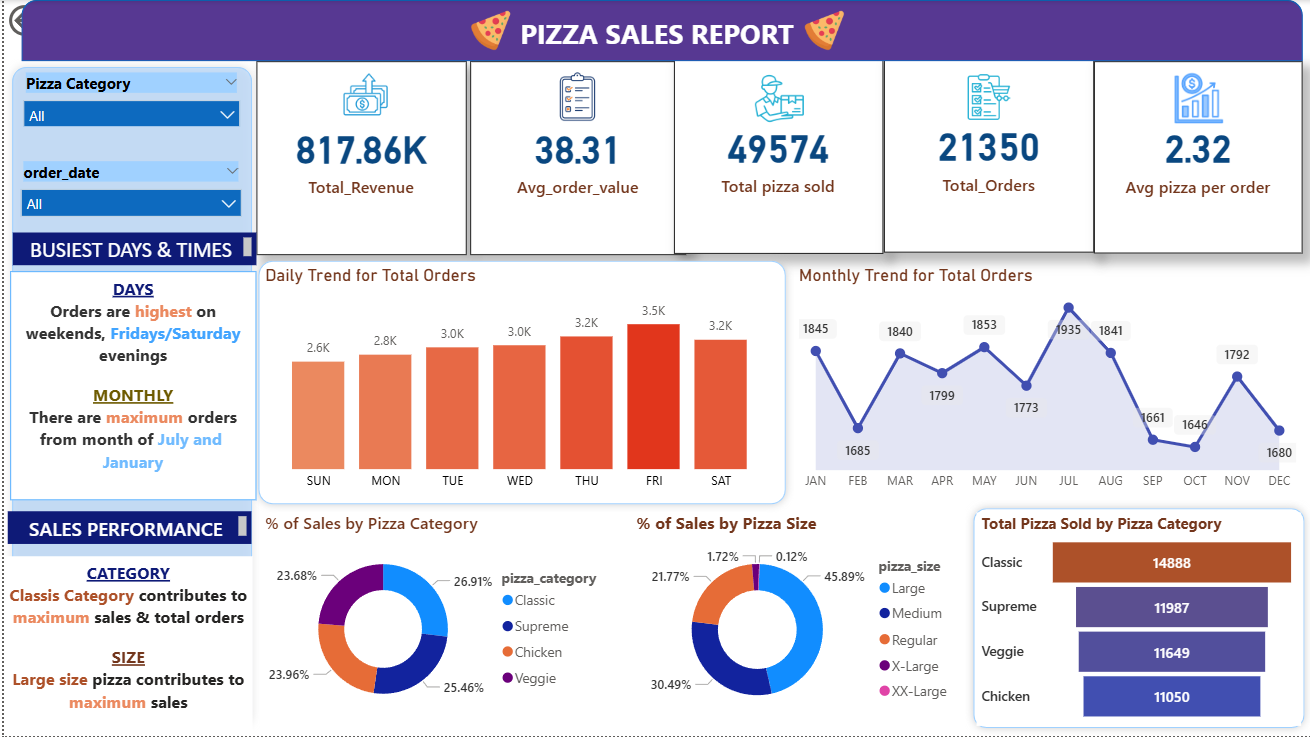

This screenshot's page, from the dashboard's own definition file:
{"tool":"powerbi","page":{"name":"Page 1","canvas":[1280,720],"ordinal":0},"visuals":[{"type":"actionButton","box":[0,0,100,40],"z":0},{"type":"card","fields":{"Values":["pizza_sales.Total_Revenue"]},"box":[247,59.9,205.4,189.5],"z":1000},{"type":"card","fields":{"Values":["pizza_sales.Avg_order_value"]},"box":[455.6,60.4,211.3,189.4],"z":2000},{"type":"card","fields":{"Values":["pizza_sales.Total pizza sold"]},"box":[655.9,59,204.5,189.4],"z":3000},{"type":"shape","box":[0,57.5,250.7,662.8],"z":4000},{"type":"card","fields":{"Values":["pizza_sales.Total_Orders"]},"box":[860.4,57.6,205.8,189.4],"z":5000},{"type":"card","fields":{"Values":["pizza_sales.Avg pizza per order"]},"box":[1066.3,59.9,204.2,188.3],"z":6000},{"type":"shape","box":[17.1,0,1253.4,59.9],"z":7000},{"type":"textbox","box":[8.6,227.4,238.5,31.8],"z":8000},{"type":"textbox","box":[496.5,9.8,284.9,50.1],"z":9000},{"type":"image","box":[455.6,9.6,39.8,39.8],"z":10000},{"type":"image","box":[734.1,60.4,49.4,72.7],"z":11000},{"type":"image","box":[940,71.4,46.7,48],"z":12000},{"type":"image","box":[329.3,59,49.4,67.2],"z":13000},{"type":"image","box":[521.4,70,79.6,49.4],"z":14000},{"type":"image","box":[1140.3,71.4,56.3,50.8],"z":15000},{"type":"shape","box":[240.9,247,531.9,254.3],"z":16000},{"type":"columnChart","title":"Daily Trend for Total Orders","fields":{"Category":["pizza_sales.Order Day"],"Y":["pizza_sales.Total_Orders"]},"box":[250.7,259.2,508.7,229.9],"z":17000},{"type":"areaChart","title":"Monthly Trend for Total Orders","fields":{"Y":["pizza_sales.Total_Orders"],"Category":["pizza_sales.Order Month"]},"box":[772.8,259.2,496.5,229.9],"z":18000},{"type":"shape","box":[940.4,489.1,339.9,231.1],"z":19000},{"type":"donutChart","title":"% of Sales by Pizza Category","fields":{"Category":["pizza_sales.pizza_category"],"Y":["pizza_sales.Total_Revenue"]},"box":[250.7,500.1,349.7,209.1],"z":20000},{"type":"donutChart","title":"% of Sales by Pizza Size","fields":{"Category":["pizza_sales.pizza_size"],"Y":["pizza_sales.Total_Revenue"]},"box":[613.9,500.1,326.5,210.3],"z":21000},{"type":"funnel","title":"Total Pizza Sold by Pizza Category","fields":{"Category":["pizza_sales.pizza_category"],"Y":["pizza_sales.Total pizza sold"]},"box":[951.4,501.4,317.9,209.1],"z":22000},{"type":"textbox","box":[6.1,265.4,240.9,223.8],"z":23000},{"type":"textbox","box":[0,544.2,243.3,176.1],"z":24000},{"type":"textbox","box":[3.7,500.1,238.5,31.8],"z":25000},{"type":"slicer","fields":{"Values":["pizza_sales.pizza_category"]},"box":[8.6,66,232.3,57.5],"z":26000},{"type":"slicer","fields":{"Values":["pizza_sales.order_date"]},"box":[6.1,152.9,236,59.9],"z":27000},{"type":"image","box":[759.4,9.8,86.8,40.4],"z":28000}]}

Visuals, with their boxes in screenshot pixels (x1, y1, x2, y2), scaled from the page's 1280x720 canvas onto the 1310x737 screenshot:
actionButton: [x1=0, y1=0, x2=102, y2=41]
card - pizza_sales.Total_Revenue: [x1=253, y1=61, x2=463, y2=255]
card - pizza_sales.Avg_order_value: [x1=466, y1=62, x2=683, y2=256]
card - pizza_sales.Total pizza sold: [x1=671, y1=60, x2=881, y2=254]
shape: [x1=0, y1=59, x2=257, y2=736]
card - pizza_sales.Total_Orders: [x1=881, y1=59, x2=1091, y2=253]
card - pizza_sales.Avg pizza per order: [x1=1091, y1=61, x2=1300, y2=254]
shape: [x1=18, y1=0, x2=1300, y2=61]
textbox: [x1=9, y1=233, x2=253, y2=265]
textbox: [x1=508, y1=10, x2=800, y2=61]
image: [x1=466, y1=10, x2=507, y2=51]
image: [x1=751, y1=62, x2=802, y2=136]
image: [x1=962, y1=73, x2=1010, y2=122]
image: [x1=337, y1=60, x2=388, y2=129]
image: [x1=534, y1=72, x2=615, y2=122]
image: [x1=1167, y1=73, x2=1225, y2=125]
shape: [x1=247, y1=253, x2=791, y2=513]
"Daily Trend for Total Orders" columnChart: [x1=257, y1=265, x2=777, y2=501]
"Monthly Trend for Total Orders" areaChart: [x1=791, y1=265, x2=1299, y2=501]
shape: [x1=962, y1=501, x2=1309, y2=736]
"% of Sales by Pizza Category" donutChart: [x1=257, y1=512, x2=614, y2=726]
"% of Sales by Pizza Size" donutChart: [x1=628, y1=512, x2=962, y2=727]
"Total Pizza Sold by Pizza Category" funnel: [x1=974, y1=513, x2=1299, y2=727]
textbox: [x1=6, y1=272, x2=253, y2=501]
textbox: [x1=0, y1=557, x2=249, y2=736]
textbox: [x1=4, y1=512, x2=248, y2=544]
slicer - pizza_sales.pizza_category: [x1=9, y1=68, x2=247, y2=126]
slicer - pizza_sales.order_date: [x1=6, y1=157, x2=248, y2=218]
image: [x1=777, y1=10, x2=866, y2=51]
